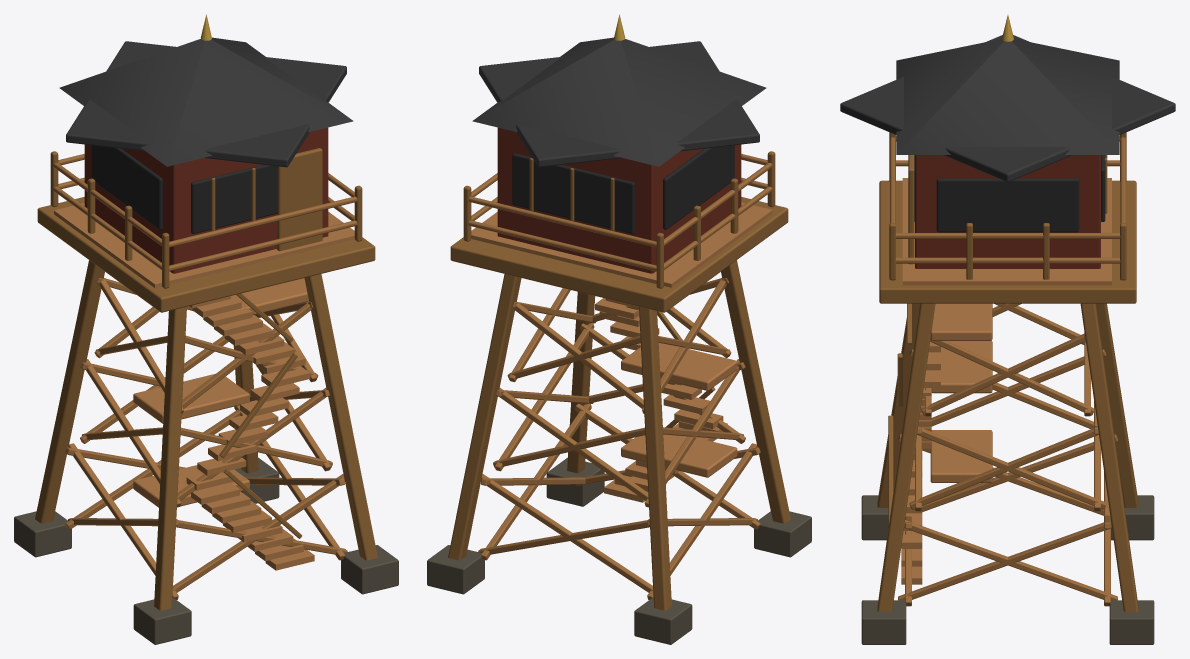
File: fire-lookout.glb
The picture shows the model from 3 angles, left to right: view 1: azimuth 30°, elevation 25°; view 2: azimuth 150°, elevation 25°; view 3: azimuth 270°, elevation 25°; orthographic projection. The views are drawn at different scales.
Visible parts, largest first — view 1: fire-lookout-farm-wood-dark, fire-lookout-farm-roof-slate, fire-lookout-farm-wood, fire-lookout-farm-wood-light, fire-lookout-farm-barn-red-dark, fire-lookout-farm-window, fire-lookout-farm-stone-dark; view 2: fire-lookout-farm-wood-dark, fire-lookout-farm-roof-slate, fire-lookout-farm-wood, fire-lookout-farm-wood-light, fire-lookout-farm-barn-red-dark, fire-lookout-farm-window, fire-lookout-farm-stone-dark; view 3: fire-lookout-farm-roof-slate, fire-lookout-farm-wood-dark, fire-lookout-farm-wood, fire-lookout-farm-wood-light, fire-lookout-farm-barn-red-dark, fire-lookout-farm-window, fire-lookout-farm-stone-dark.
Part boxes in pixels (x1,y1,x2,y2): fire-lookout-farm-wood-dark: (35,148,377,610); fire-lookout-farm-roof-slate: (59,37,353,167); fire-lookout-farm-wood: (53,154,357,599); fire-lookout-farm-wood-light: (54,203,354,570); fire-lookout-farm-barn-red-dark: (84,127,328,273); fire-lookout-farm-window: (91,145,277,233); fire-lookout-farm-stone-dark: (14,458,398,644); fire-lookout-farm-wood-dark: (448,151,790,610); fire-lookout-farm-roof-slate: (472,37,766,167); fire-lookout-farm-wood: (468,154,772,599); fire-lookout-farm-wood-light: (471,202,772,502); fire-lookout-farm-barn-red-dark: (497,127,741,273); fire-lookout-farm-window: (512,145,734,233); fire-lookout-farm-stone-dark: (427,458,811,644); fire-lookout-farm-roof-slate: (840,35,1175,181); fire-lookout-farm-wood-dark: (877,132,1138,611); fire-lookout-farm-wood: (890,136,1125,606); fire-lookout-farm-wood-light: (901,178,1111,584); fire-lookout-farm-barn-red-dark: (915,155,1100,268); fire-lookout-farm-window: (914,155,1105,232); fire-lookout-farm-stone-dark: (861,495,1154,644).
Size of the model in its own units: 5.42 by 10.15 by 5.42.
